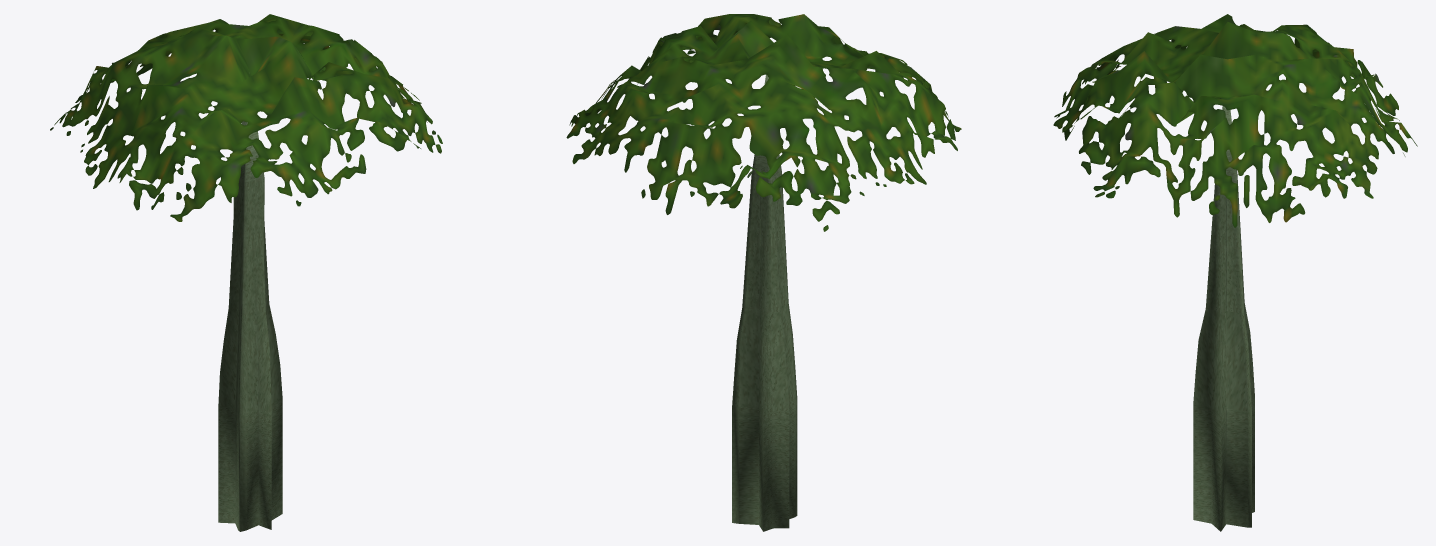
The model's file is kapok_tree_3_3.dae.
3 renders of one model, left to right at view 1: azimuth 30°, elevation 25°; view 2: azimuth 150°, elevation 25°; view 3: azimuth 270°, elevation 25°, orthographic.
Parts seen in each view (by area): view 1: Plane, Cube; view 2: Plane, Cube; view 3: Plane, Cube.
Part boxes in pixels (box(x1,y1,x2,y2)): Plane: box(50, 14, 442, 221); Cube: box(218, 121, 282, 531); Plane: box(566, 14, 961, 231); Cube: box(732, 74, 797, 531); Plane: box(1053, 14, 1417, 227); Cube: box(1193, 106, 1254, 531).
Size of the model in its own units: 0.756 by 0.7639 by 1.05.
Materials: 2 (2 with a texture image).
